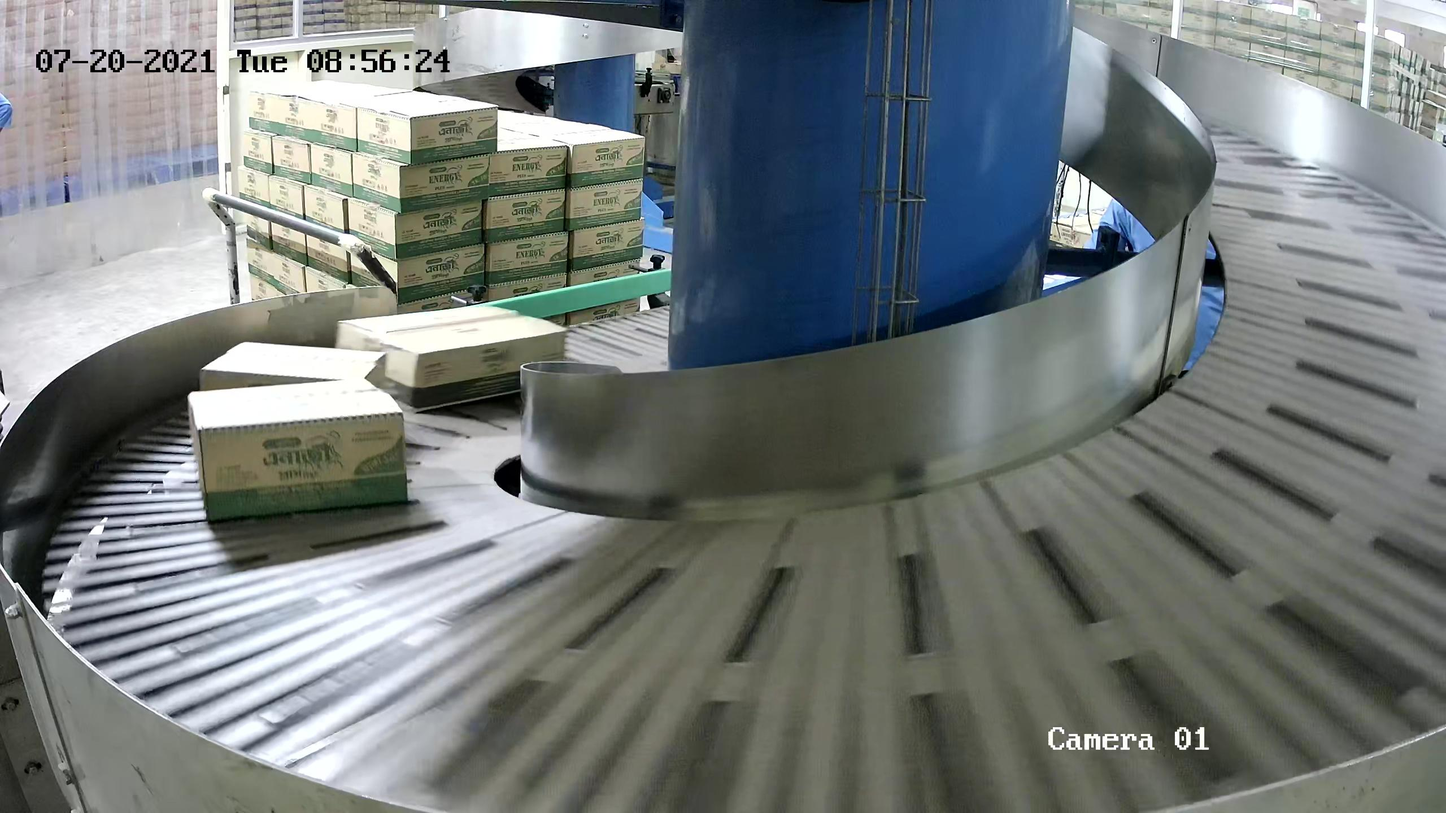Box: (185, 375, 411, 525), (332, 301, 570, 417)
